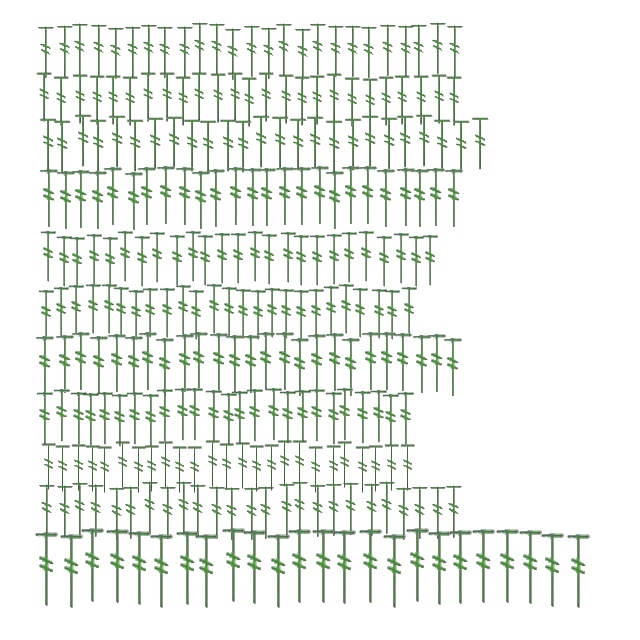fan: (104, 528, 130, 606), (126, 530, 152, 608), (174, 530, 200, 608), (286, 528, 312, 606), (310, 528, 336, 606), (357, 528, 383, 606), (426, 530, 452, 608), (470, 528, 496, 606), (494, 528, 520, 606), (539, 532, 565, 610), (33, 532, 59, 608), (58, 534, 84, 610), (79, 528, 105, 604), (148, 534, 174, 610), (193, 534, 219, 610), (220, 528, 246, 604), (241, 530, 267, 606), (265, 534, 291, 610), (331, 530, 357, 606), (381, 534, 407, 610), (404, 528, 430, 604), (447, 530, 473, 606), (517, 530, 543, 606), (565, 534, 591, 610), (38, 168, 60, 230), (102, 166, 124, 228), (136, 166, 158, 228), (174, 166, 196, 228), (190, 170, 212, 232), (274, 166, 296, 228), (324, 170, 346, 232), (54, 334, 76, 396), (208, 332, 230, 394), (224, 334, 246, 396), (240, 334, 262, 396), (324, 332, 346, 394), (392, 332, 414, 394), (70, 170, 92, 230), (242, 168, 264, 228), (256, 168, 278, 228), (340, 166, 362, 226), (34, 336, 56, 396), (70, 332, 92, 392), (88, 336, 110, 396), (106, 334, 128, 394), (154, 338, 176, 398), (174, 334, 196, 394), (188, 332, 210, 392), (274, 332, 296, 392), (306, 334, 328, 394), (340, 338, 362, 398), (360, 332, 382, 392), (376, 332, 398, 392), (426, 334, 448, 394), (442, 338, 464, 398), (56, 170, 76, 232), (88, 170, 108, 232), (206, 168, 226, 230), (226, 166, 246, 228), (292, 166, 312, 228), (376, 168, 396, 230), (410, 168, 430, 230), (444, 168, 464, 230), (412, 334, 432, 396), (88, 118, 110, 174), (182, 118, 204, 174), (218, 118, 240, 174), (360, 114, 382, 170), (432, 118, 454, 174), (470, 116, 492, 172), (124, 172, 144, 232), (156, 166, 176, 226), (310, 166, 330, 226), (358, 166, 378, 226), (396, 168, 416, 228), (426, 168, 446, 228), (124, 336, 144, 396), (138, 332, 158, 392), (256, 332, 276, 392), (290, 338, 310, 398), (38, 118, 60, 172), (52, 120, 74, 174), (164, 116, 186, 170), (198, 120, 220, 174), (270, 116, 292, 170), (288, 118, 310, 172), (324, 120, 346, 174), (414, 114, 436, 168), (36, 24, 56, 82), (89, 22, 109, 80), (123, 24, 143, 82), (139, 22, 159, 80), (155, 24, 175, 82), (175, 24, 195, 82), (190, 20, 210, 78), (223, 26, 243, 84), (293, 26, 313, 84), (359, 24, 379, 82), (378, 22, 398, 80), (409, 22, 429, 80), (428, 20, 448, 78), (37, 482, 57, 540), (55, 483, 75, 541), (70, 480, 90, 538), (86, 482, 106, 540), (107, 485, 127, 543), (121, 484, 141, 542), (140, 479, 160, 537), (158, 484, 178, 542), (174, 479, 194, 537), (188, 482, 208, 540), (207, 484, 227, 542), (222, 485, 242, 543), (242, 485, 262, 543), (256, 484, 276, 542), (277, 481, 297, 539), (290, 479, 310, 537), (308, 482, 328, 540), (324, 481, 344, 539), (341, 480, 361, 538), (362, 481, 382, 539), (377, 479, 397, 537), (394, 485, 414, 543), (410, 484, 430, 542), (428, 484, 448, 542), (444, 483, 464, 541), (55, 24, 75, 80), (70, 22, 90, 78), (106, 26, 126, 82), (207, 22, 227, 78), (242, 24, 262, 80), (259, 26, 279, 82), (274, 22, 294, 78), (308, 22, 328, 78), (326, 24, 346, 80), (343, 24, 363, 80), (396, 24, 416, 80), (445, 24, 465, 80), (108, 114, 128, 170), (126, 118, 146, 174), (146, 116, 166, 172), (252, 114, 272, 170), (380, 116, 400, 172), (396, 114, 416, 170), (52, 388, 72, 444), (230, 390, 250, 446), (278, 390, 298, 446), (74, 114, 94, 168), (234, 120, 254, 174), (306, 116, 326, 170), (344, 118, 364, 172), (452, 120, 472, 174), (110, 394, 130, 448), (204, 390, 224, 444), (264, 388, 284, 442), (324, 392, 344, 446), (396, 392, 416, 446), (52, 75, 72, 127), (88, 74, 108, 126), (104, 74, 124, 126), (158, 71, 178, 123), (174, 75, 194, 127), (190, 71, 210, 123), (226, 71, 246, 123), (240, 76, 260, 128), (308, 74, 328, 126), (412, 74, 432, 126), (430, 73, 450, 125), (82, 392, 100, 448), (156, 388, 174, 444), (220, 392, 238, 448), (246, 388, 264, 444), (308, 388, 326, 444), (354, 390, 372, 446), (39, 230, 57, 284), (68, 236, 86, 290), (101, 236, 119, 290), (116, 230, 134, 284), (168, 234, 186, 288), (184, 230, 202, 284), (196, 234, 214, 288), (213, 232, 231, 286), (229, 232, 247, 286), (246, 230, 264, 284), (292, 234, 310, 288), (308, 234, 326, 288), (357, 230, 375, 284), (392, 232, 410, 286), (421, 234, 439, 288), (36, 392, 54, 446), (70, 392, 88, 446), (96, 392, 114, 446), (126, 392, 144, 446), (142, 394, 160, 448), (174, 388, 192, 442), (186, 388, 204, 442), (294, 390, 312, 444), (336, 388, 354, 442), (370, 390, 388, 444), (382, 394, 400, 448), (36, 71, 54, 123), (72, 73, 90, 125), (122, 75, 140, 127), (140, 71, 158, 123), (210, 72, 228, 124), (258, 71, 276, 123), (278, 73, 296, 125), (294, 75, 312, 127), (326, 72, 344, 124), (344, 76, 362, 128), (362, 77, 380, 129), (378, 75, 396, 127), (394, 74, 412, 126), (446, 75, 464, 127), (55, 236, 73, 288), (85, 234, 103, 286), (133, 236, 151, 288), (148, 232, 166, 284), (260, 234, 278, 286), (279, 232, 297, 284), (325, 234, 343, 286), (340, 232, 358, 284), (375, 236, 393, 288), (407, 236, 425, 288), (37, 289, 55, 341), (52, 286, 70, 338), (67, 284, 85, 336), (84, 283, 102, 335), (100, 283, 118, 335), (112, 286, 130, 338), (127, 289, 145, 341), (141, 287, 159, 339), (158, 287, 176, 339), (174, 284, 192, 336), (187, 289, 205, 341), (205, 283, 223, 335), (220, 286, 238, 338), (234, 288, 252, 340), (249, 289, 267, 341), (263, 287, 281, 339), (277, 288, 295, 340), (292, 289, 310, 341), (307, 288, 325, 340), (322, 285, 340, 337), (337, 283, 355, 335), (351, 287, 369, 339), (370, 288, 388, 340), (383, 289, 401, 341), (400, 286, 418, 338), (40, 442, 58, 492), (54, 444, 72, 494), (84, 444, 102, 494), (114, 440, 132, 490), (143, 444, 161, 494), (157, 440, 175, 490), (218, 442, 236, 492), (248, 444, 266, 494), (325, 444, 343, 494), (336, 440, 354, 490), (367, 444, 385, 494), (70, 444, 88, 492), (96, 446, 114, 494), (130, 446, 148, 494), (171, 446, 189, 494), (186, 446, 204, 494), (204, 440, 222, 488), (234, 442, 252, 490), (263, 444, 281, 492), (276, 440, 294, 488), (291, 440, 309, 488), (307, 446, 325, 494), (354, 446, 372, 494), (383, 444, 401, 492), (399, 444, 417, 492)
